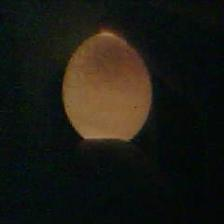infertile: (60, 34, 152, 148)
